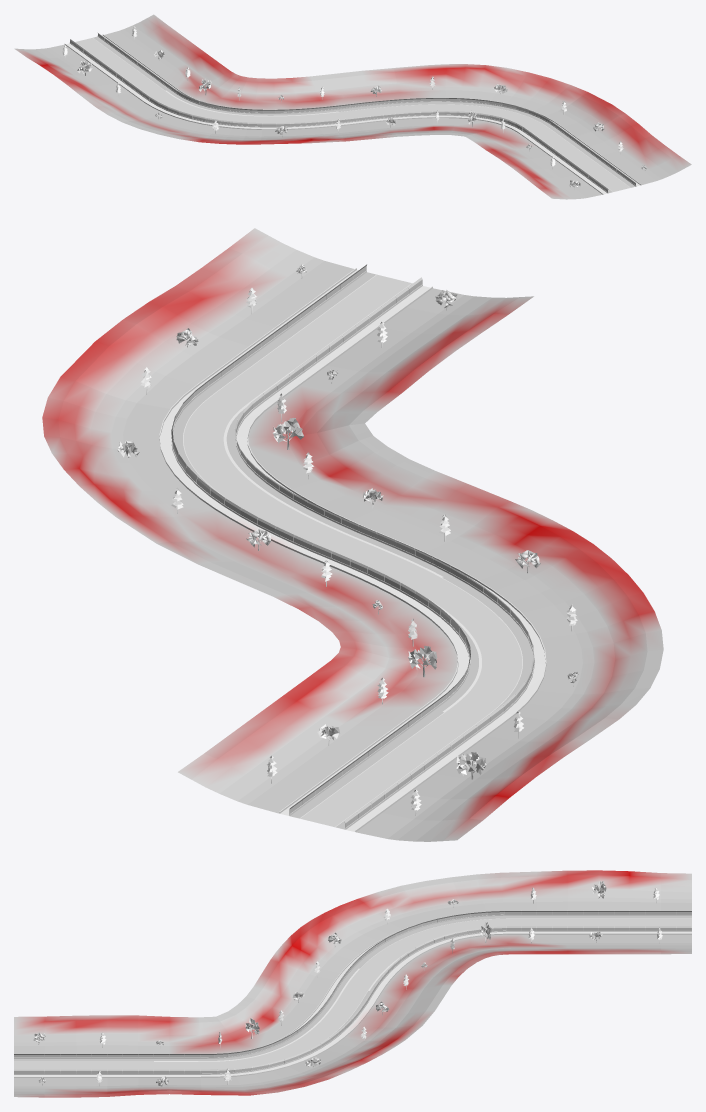
3 renders of one model, top to bottom at view 1: azimuth 30°, elevation 25°; view 2: azimuth 150°, elevation 25°; view 3: azimuth 270°, elevation 25°, orthographic. The views are drawn at different scales.
Parts seen in each view (by area): view 1: Grass, Road, Track, Wirefence, Trees; view 2: Grass, Road, Track, Wirefence, Trees; view 3: Grass, Road, Track, Wirefence, Trees.
Part boxes in pixels (left/top/right/bottom): Grass: left=14, top=14, right=691, bottom=199; Road: left=75, top=38, right=630, bottom=191; Track: left=64, top=34, right=641, bottom=194; Wirefence: left=70, top=33, right=635, bottom=192; Trees: left=62, top=26, right=646, bottom=189; Grass: left=42, top=228, right=663, bottom=841; Road: left=183, top=274, right=522, bottom=827; Track: left=159, top=268, right=546, bottom=831; Wirefence: left=171, top=264, right=534, bottom=827; Trees: left=117, top=264, right=578, bottom=815; Grass: left=14, top=870, right=691, bottom=1097; Road: left=14, top=918, right=691, bottom=1069; Track: left=14, top=911, right=691, bottom=1077; Wirefence: left=14, top=911, right=691, bottom=1073; Trees: left=33, top=881, right=662, bottom=1086.
Size of what is drawn, in the model's own units: 39000 by 1702 by 50000.
